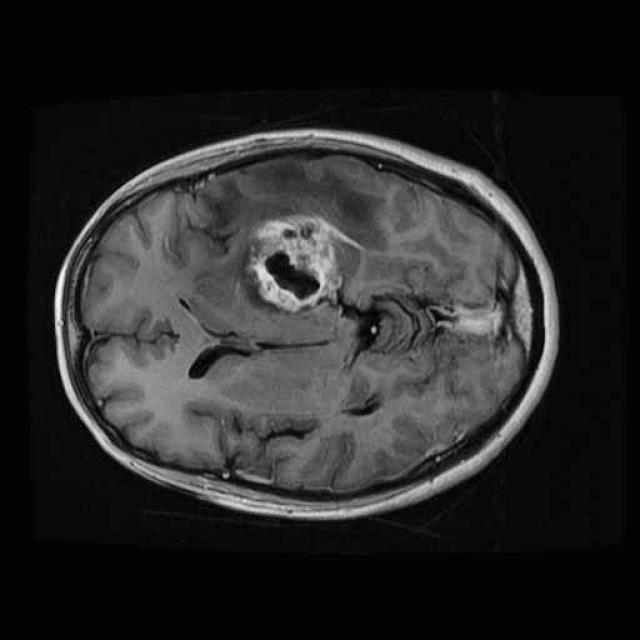Non-Tumor: (234, 206, 368, 321)
